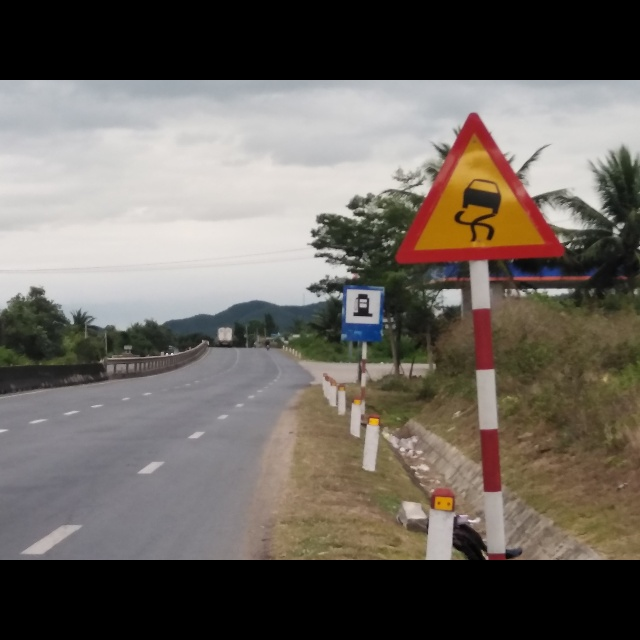Đường trơn trượt: (390, 116, 560, 265)
